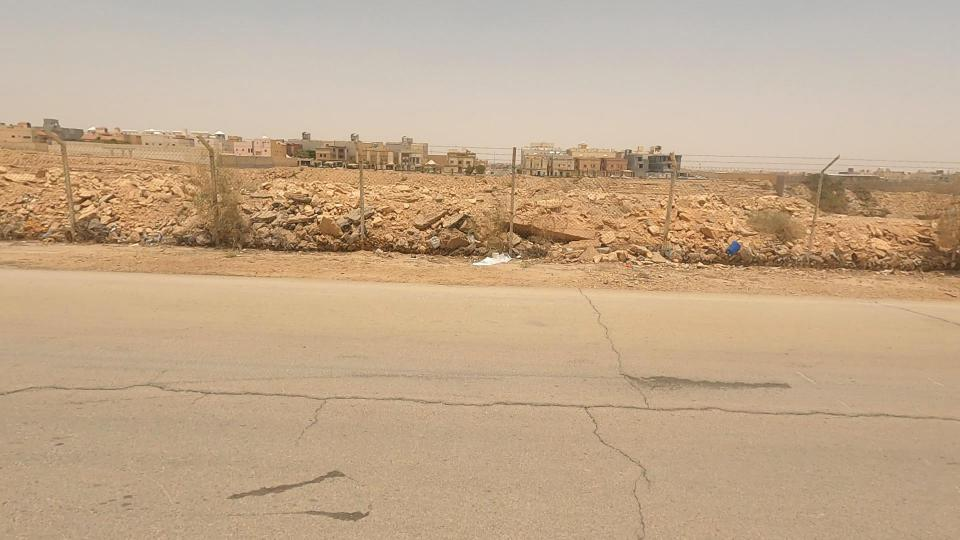GARBAGE: (429, 207, 560, 311), (661, 205, 790, 292)
